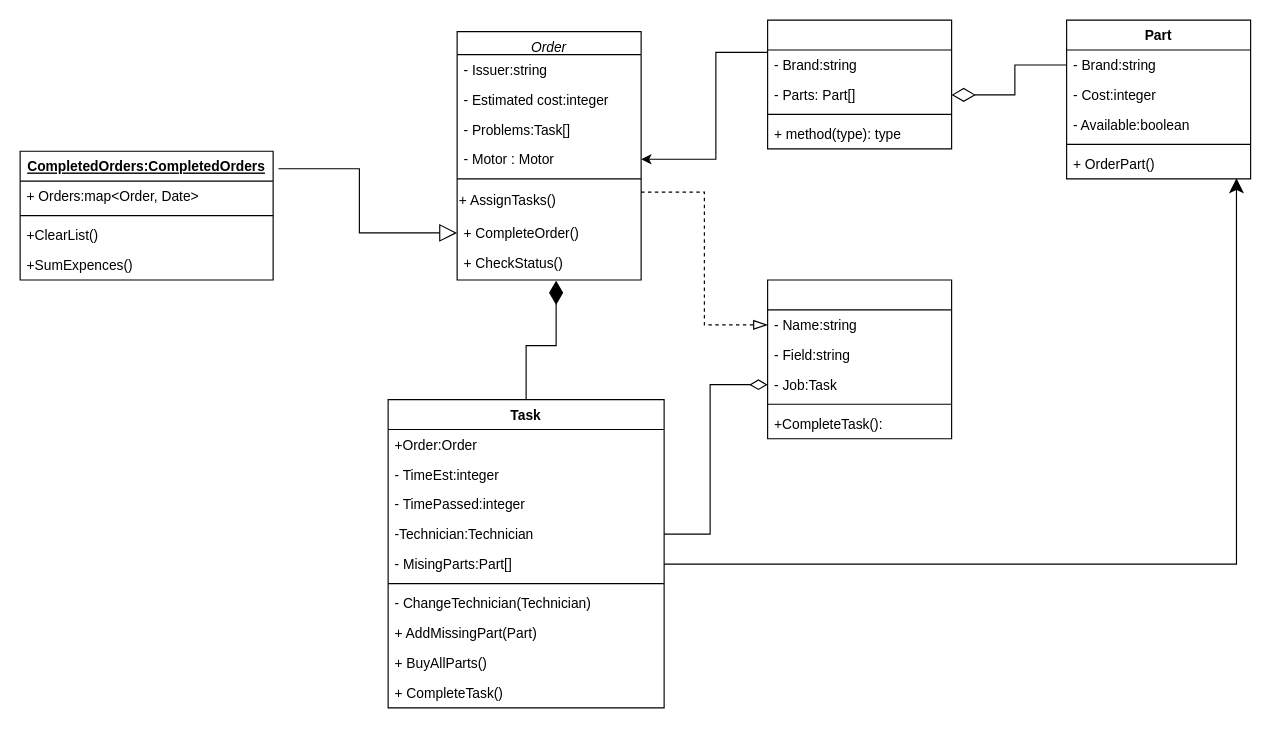
The diagram is 1271 pixels wide and 731 high, and some of its shapes have lost their labels. The shapes that lost their labels are listed below. From the top down, each one's box as (x1, y1, x2, y2) in pixels, then its label:
(766, 19, 952, 149): Motor
(766, 279, 952, 439): Technitian
